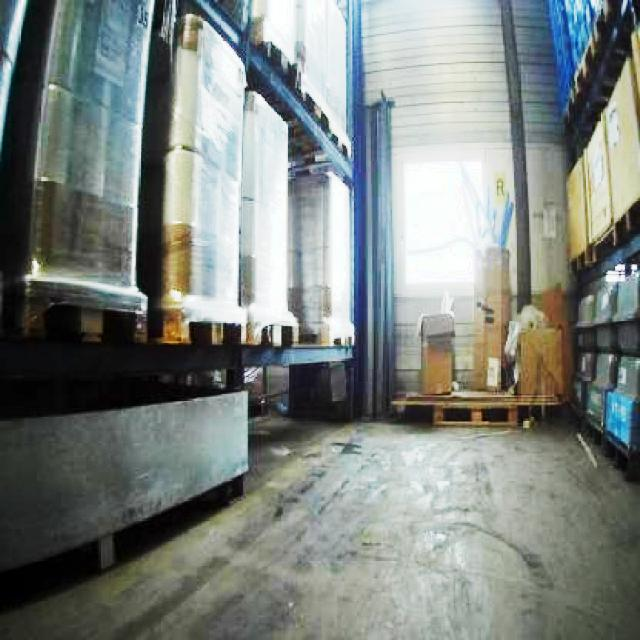ground: (0, 403, 638, 638)
pallet: (0, 374, 251, 591), (555, 0, 638, 638), (389, 243, 565, 426), (389, 389, 562, 428), (415, 311, 455, 394)
